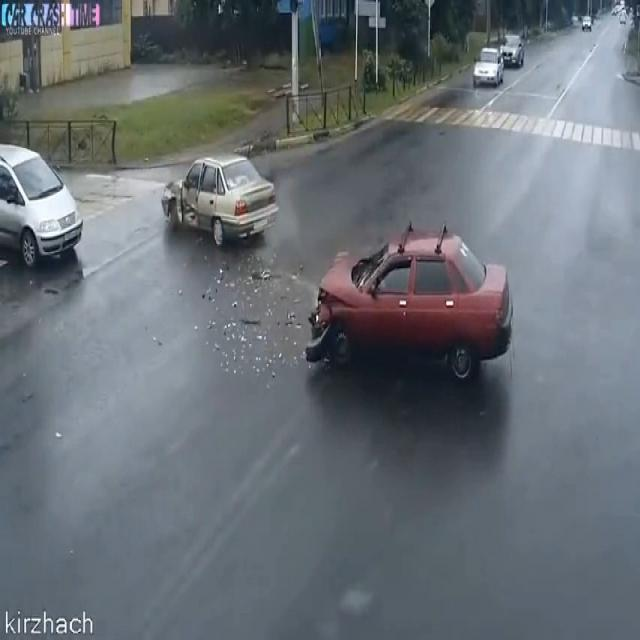Accident: (148, 117, 514, 403)
